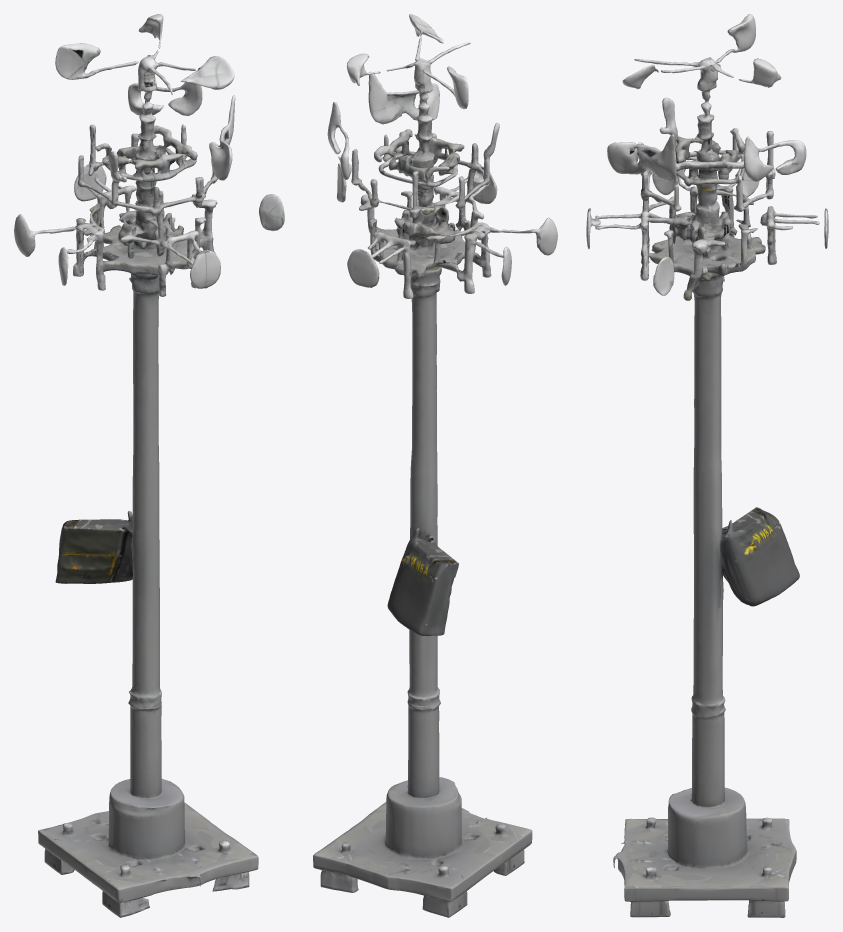
Rendered from AMOS.glb.
3 views of the same model, side by side, from view 1: azimuth 30°, elevation 25°; view 2: azimuth 150°, elevation 25°; view 3: azimuth 270°, elevation 25° (orthographic).
Size of the model in its own units: 0.5542 by 2 by 0.5202.
1 material, 1 textured.
